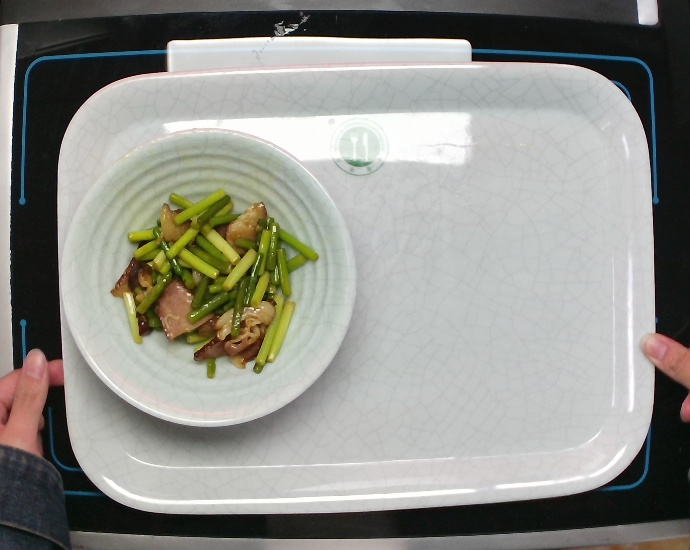JYsf-Xiao_Tang_Wan: (53, 124, 361, 434)
